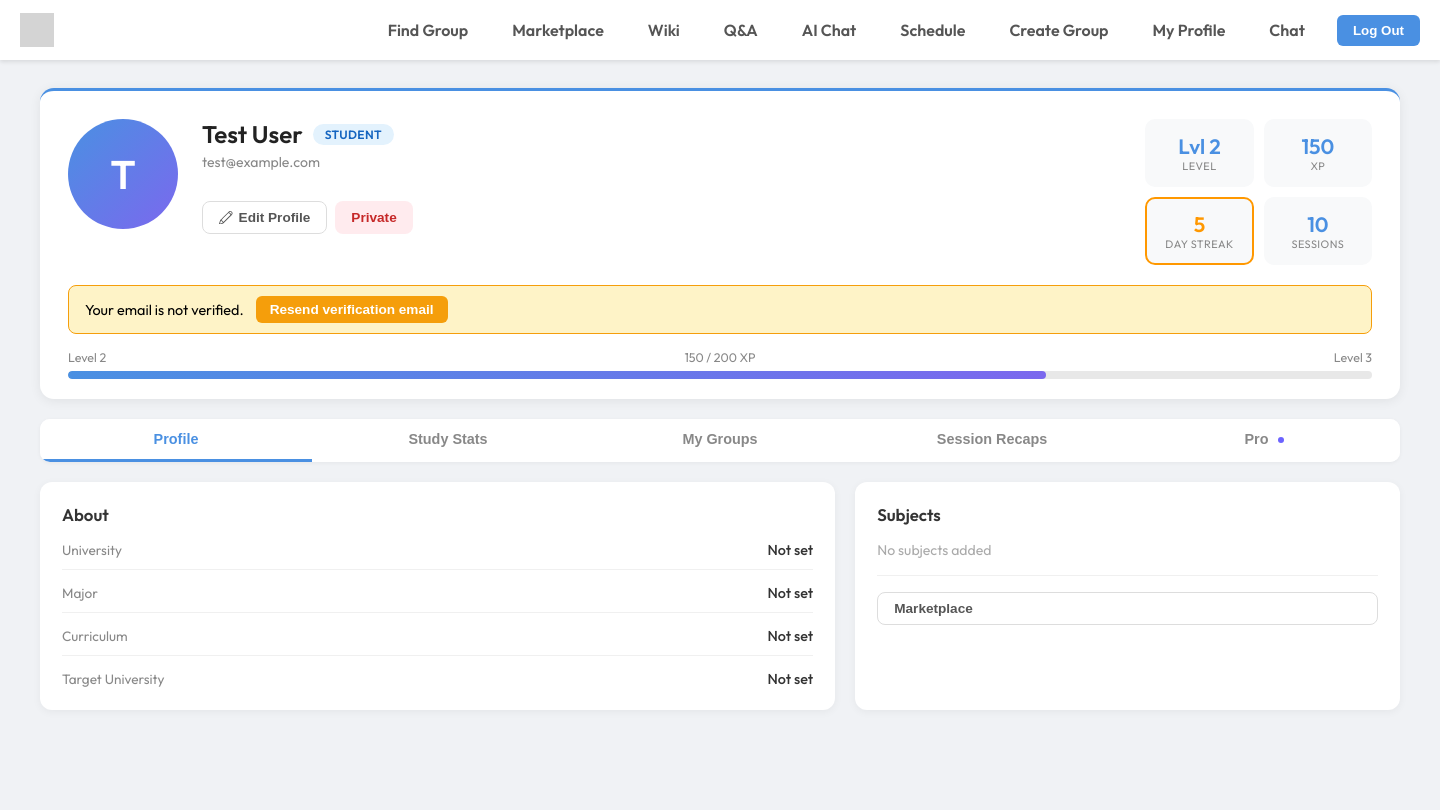
Dashboard page › shows success message after resend verification email
Click the button "Resend verification email" at (352, 310), box [256,296,448,323]
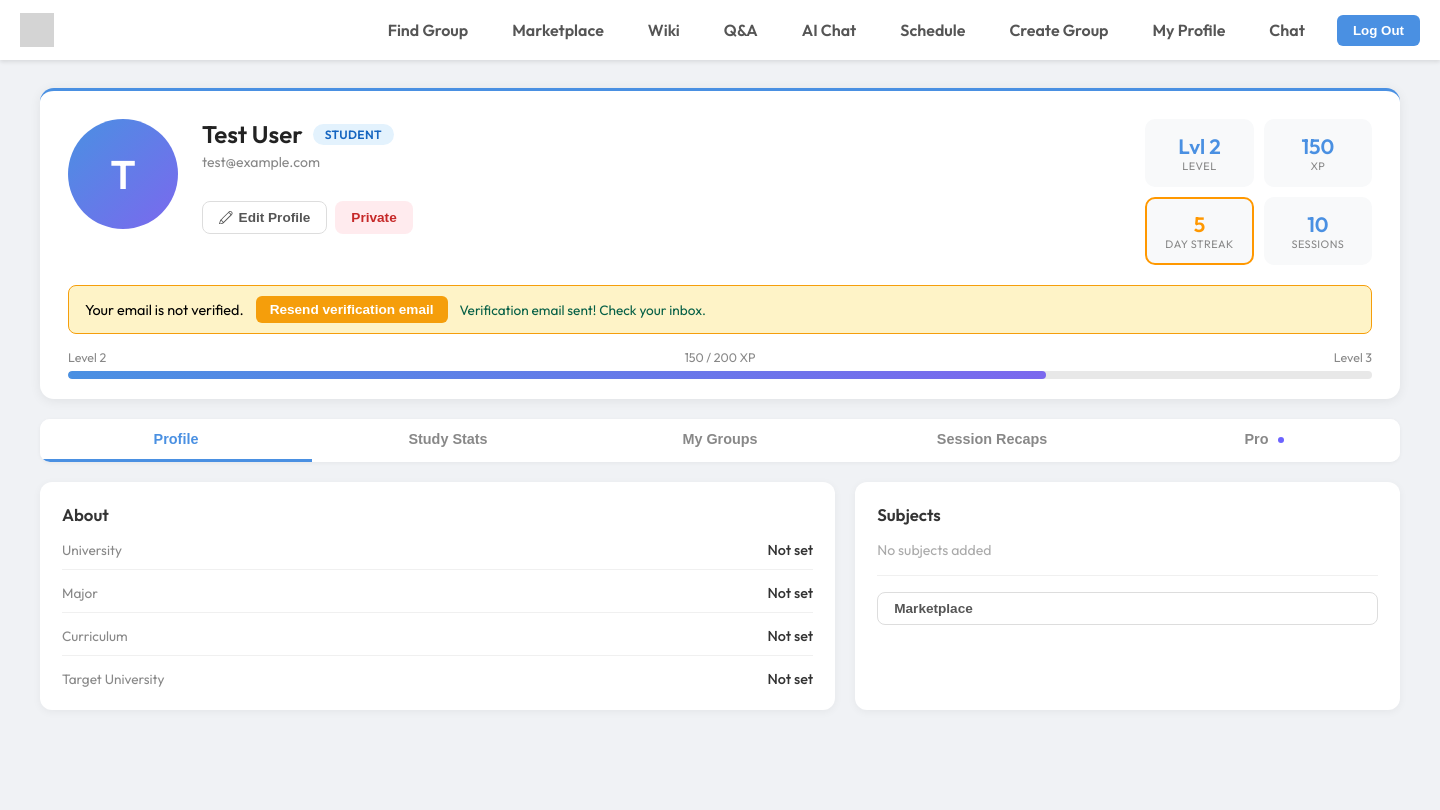
Expected: the text "Verification email sent! Check your inbox." is shown, [460,300,706,318]
